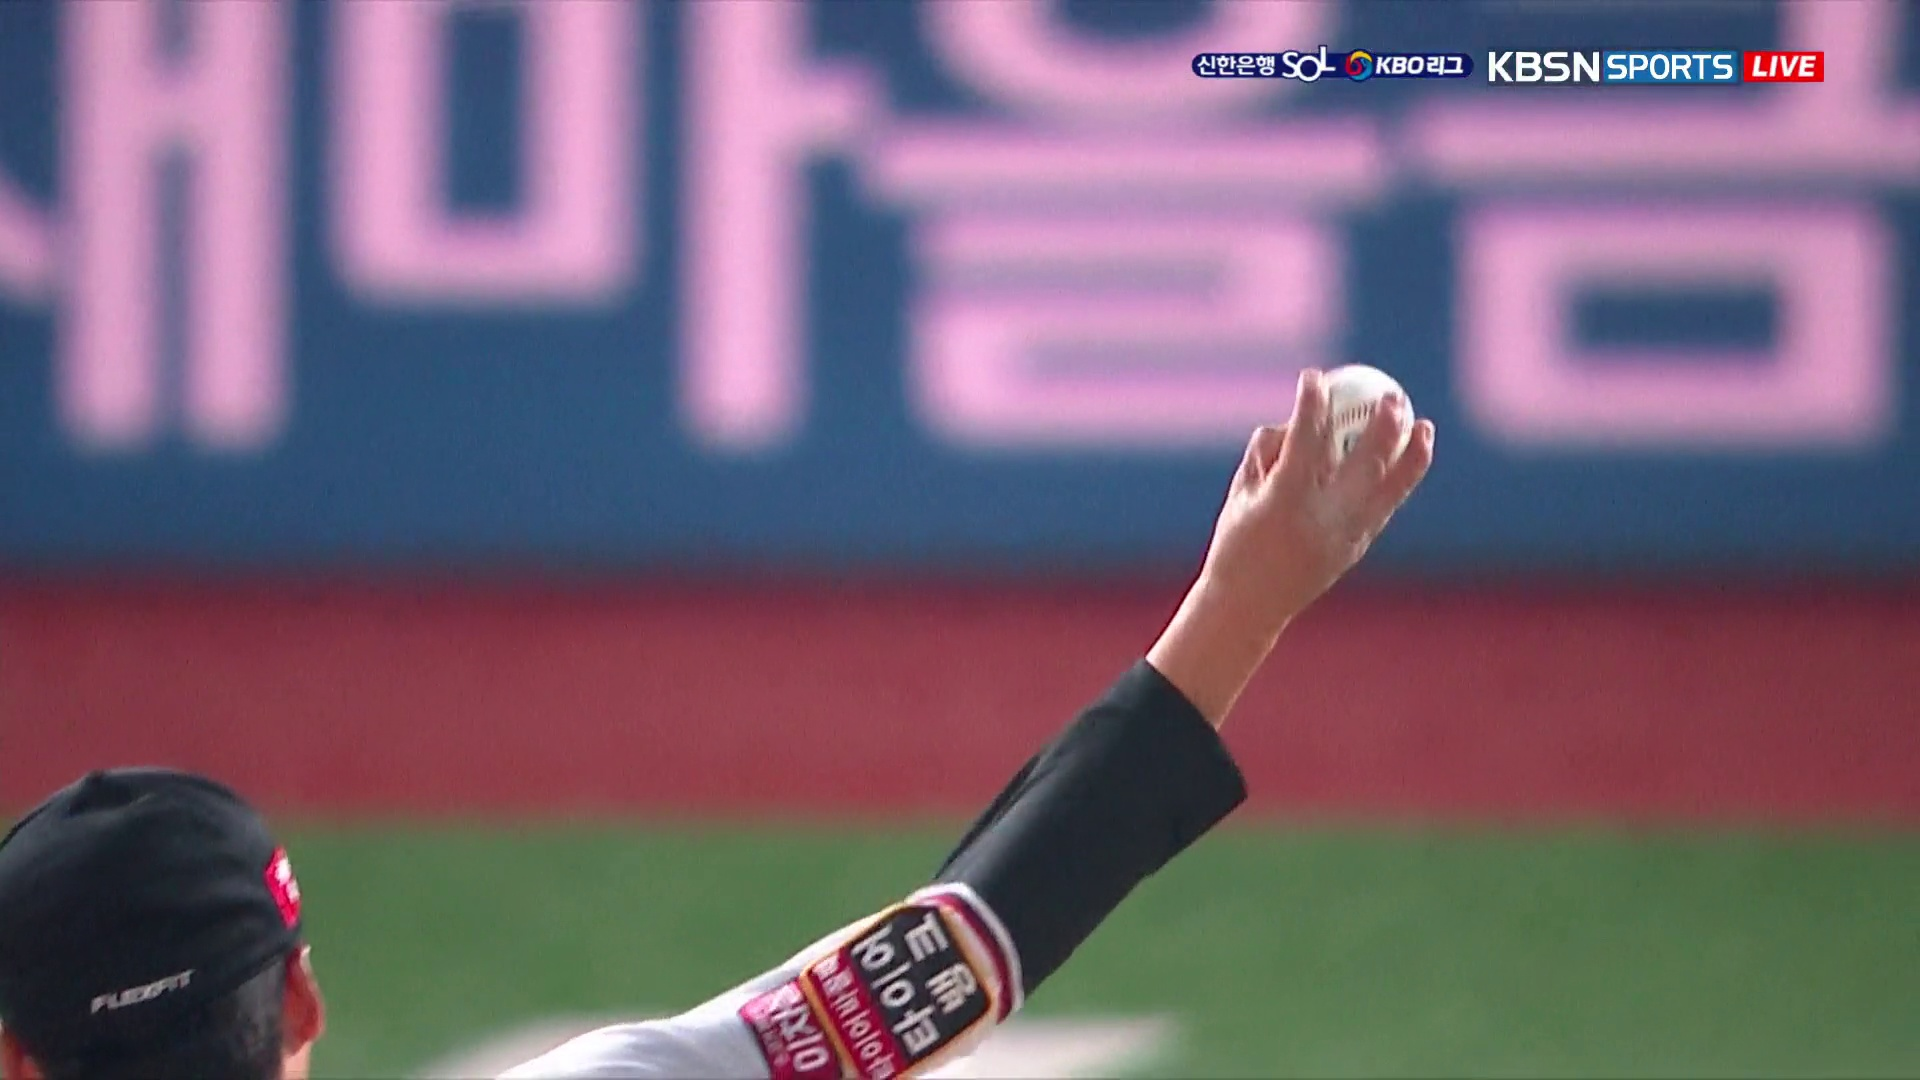zoomin_hand: (845, 348, 1455, 1048)
